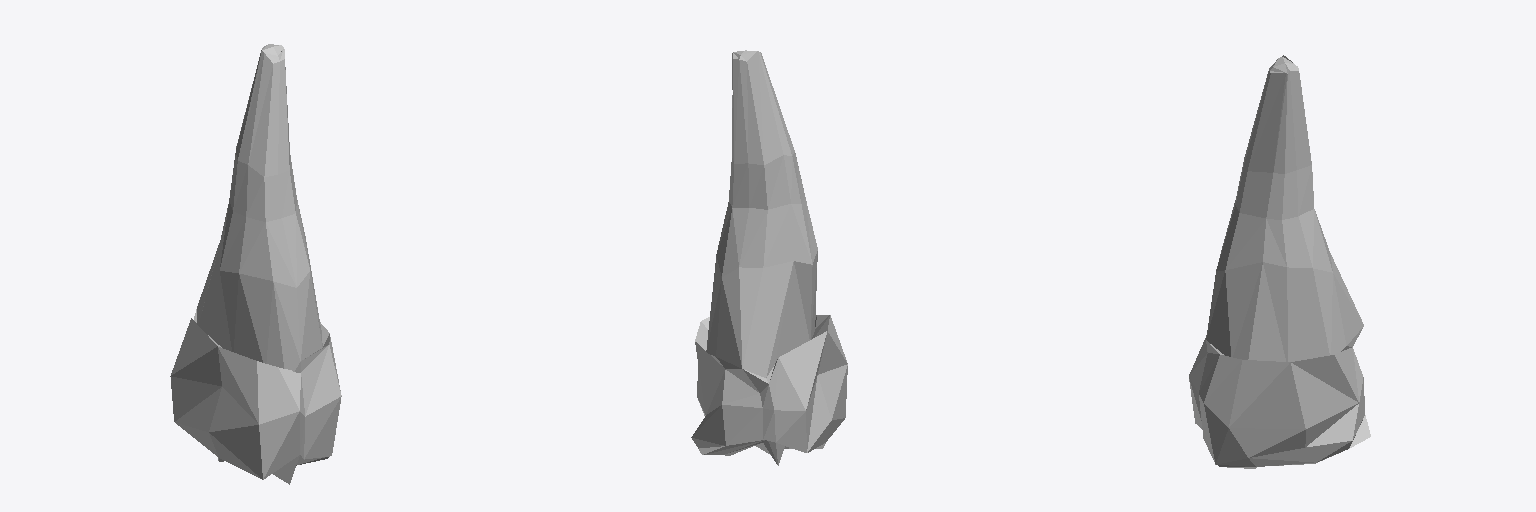
Rendered from Upper_Premolar_Left_02.obj.
The picture shows the model from 3 angles: view 1: azimuth 30°, elevation 25°; view 2: azimuth 150°, elevation 25°; view 3: azimuth 270°, elevation 25°; orthographic projection.
Parts seen in each view (by area): view 1: Upper_Premolar_Left_02 Upper_Teeth Teeth group1; view 2: Upper_Premolar_Left_02 Upper_Teeth Teeth group1; view 3: Upper_Premolar_Left_02 Upper_Teeth Teeth group1.
Boxes of the visible parts, x1,y1,x2,y2 form: Upper_Premolar_Left_02 Upper_Teeth Teeth group1: [170, 44, 341, 484]; Upper_Premolar_Left_02 Upper_Teeth Teeth group1: [691, 50, 847, 465]; Upper_Premolar_Left_02 Upper_Teeth Teeth group1: [1189, 55, 1370, 468].
Bounding box in the file's own units: 0.0938 × 0.2972 × 0.12.